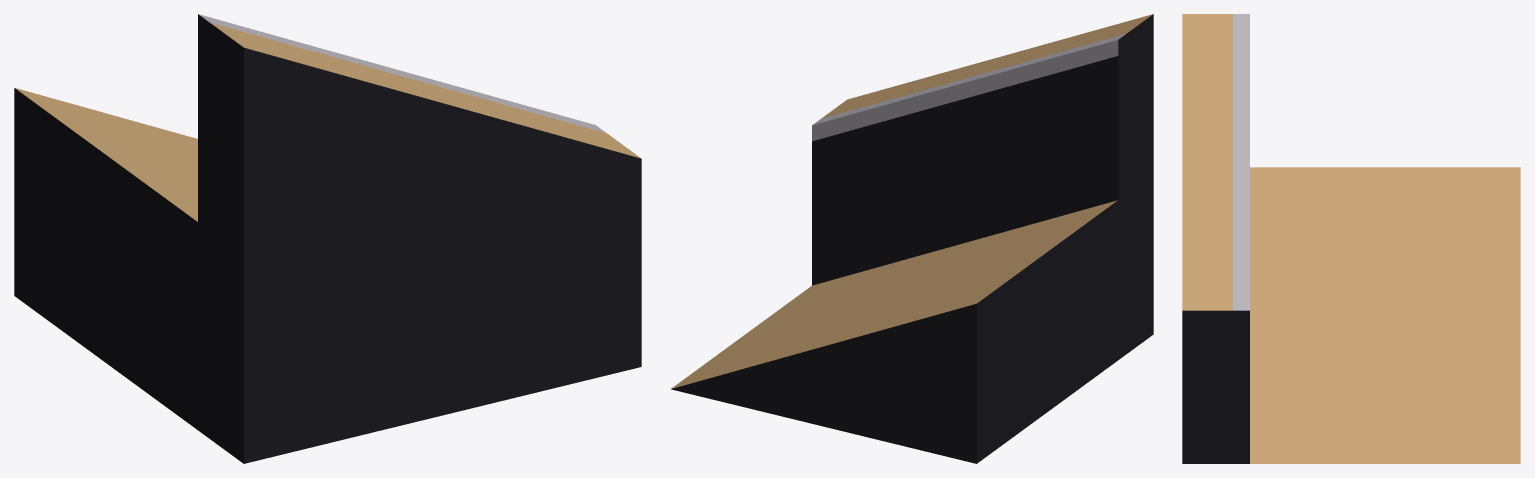
The model's file is Ledge_Ramp_LRG_L.fbx.
3 renders of one model, left to right at view 1: azimuth 30°, elevation 25°; view 2: azimuth 150°, elevation 25°; view 3: azimuth 270°, elevation 25°, orthographic. The views are drawn at different scales.
Parts seen in each view (by area): view 1: Ledge_Ramp_LRG_L; view 2: Ledge_Ramp_LRG_L; view 3: Ledge_Ramp_LRG_L.
Boxes of the visible parts, x1,y1,x2,y2 form: Ledge_Ramp_LRG_L: (14,14,641,463); Ledge_Ramp_LRG_L: (671,14,1153,463); Ledge_Ramp_LRG_L: (1182,14,1520,463).
Bounding box in the file's own units: 10 × 10 × 10.
